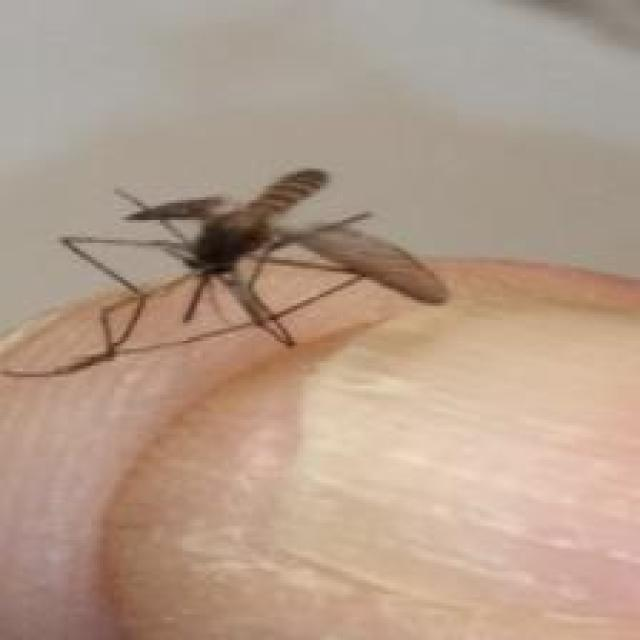Culex: (1, 166, 450, 380)
